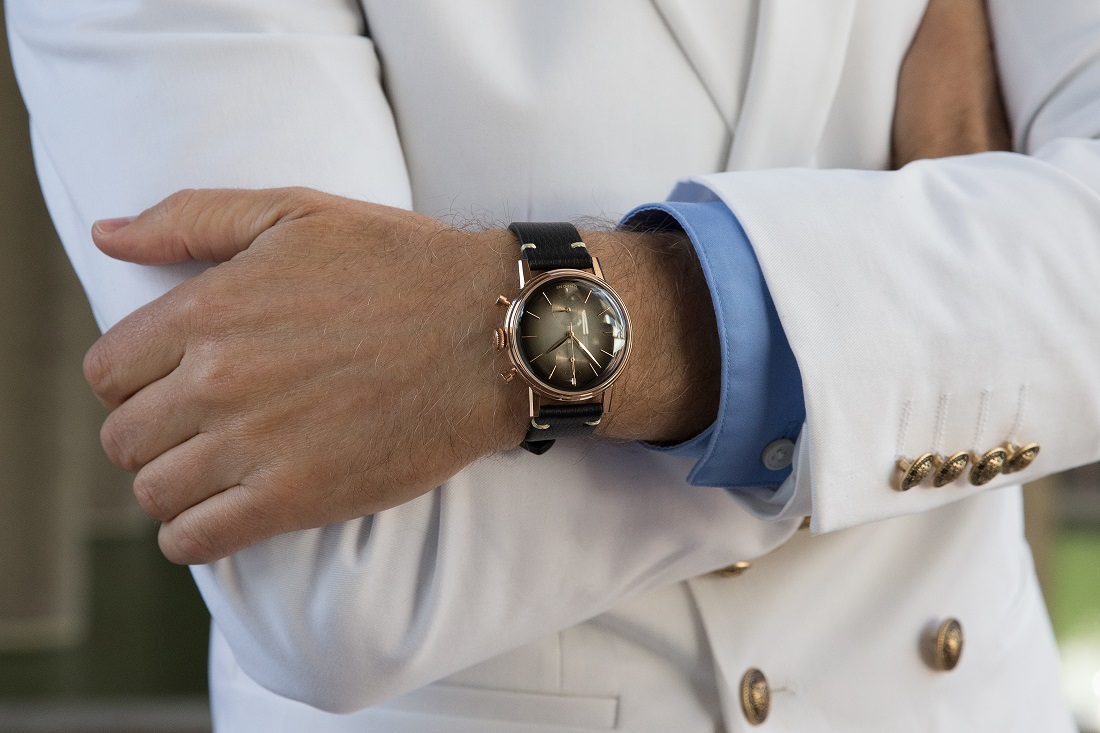clock: (515, 274, 630, 399)
